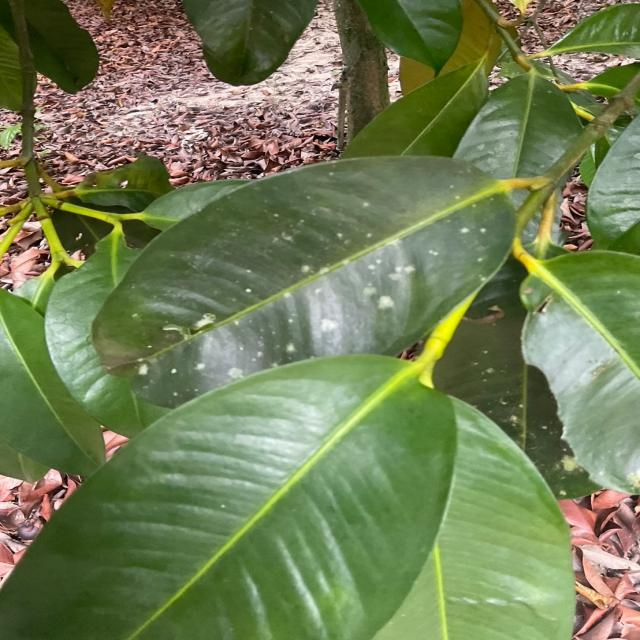Leaf Spot: (203, 224, 518, 334)
